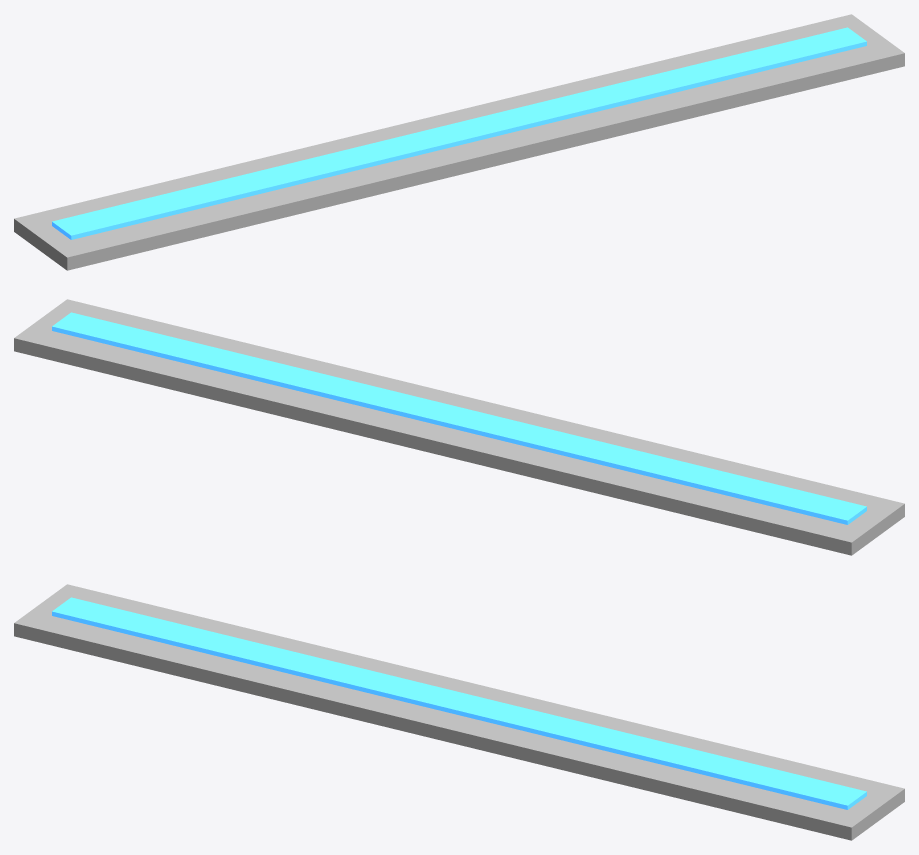
Rendered from Light_Floor_Strip_2m.fbx.
3 views of the same model, one above another, from view 1: azimuth 30°, elevation 25°; view 2: azimuth 150°, elevation 25°; view 3: azimuth 330°, elevation 25° (orthographic).
Parts seen in each view (by area): view 1: Light_Floor_Strip_2m; view 2: Light_Floor_Strip_2m; view 3: Light_Floor_Strip_2m.
Part boxes in pixels (x1,y1,x2,y2): Light_Floor_Strip_2m: (14, 14, 904, 270); Light_Floor_Strip_2m: (14, 299, 904, 555); Light_Floor_Strip_2m: (14, 584, 904, 840).
Bounding box in the file's own units: 2 × 0.04 × 0.22.
